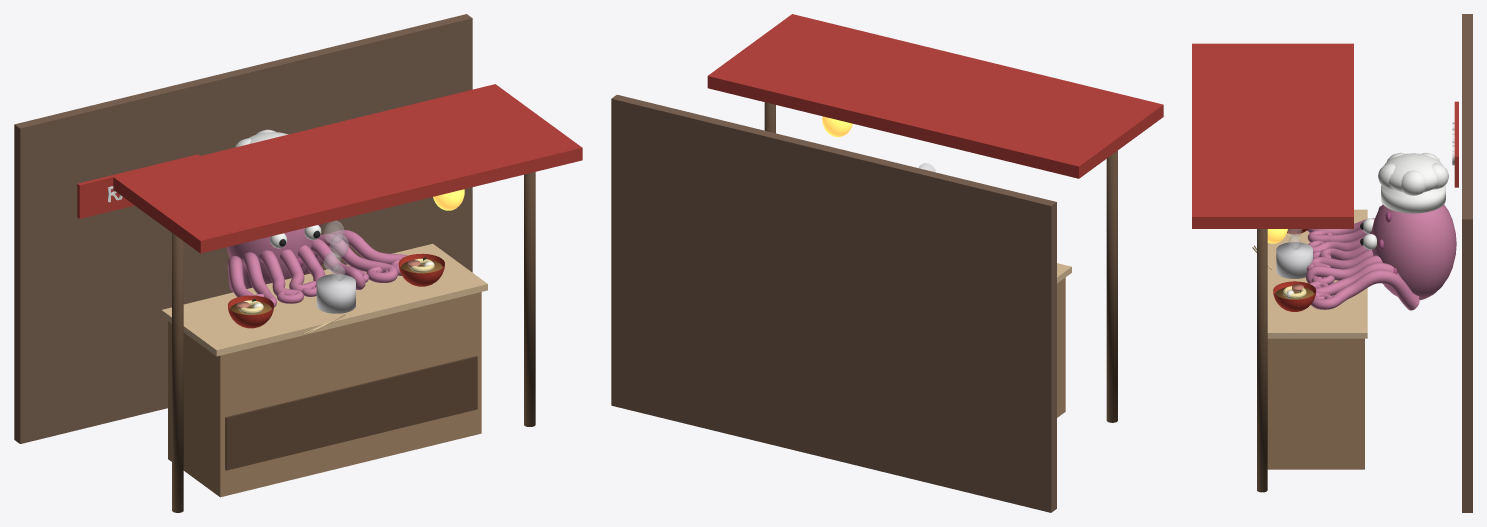
Rendered from octopus_ramen_booth.glb.
3 renders of one model, left to right at view 1: azimuth 30°, elevation 25°; view 2: azimuth 150°, elevation 25°; view 3: azimuth 270°, elevation 25°, orthographic. The views are drawn at different scales.
Visible parts, largest first — view 1: BackWall, Canopy, Counter, CounterFrontPanel, CounterTop, Post, Post.001, SignBoard, Mantle, Pot, Tentacle.006, Tentacle.007 (+7 smaller); view 2: BackWall, Canopy, Post, Counter; view 3: Canopy, Counter, Mantle, BackWall, CounterTop, Post.001, Tentacle.007, HatBand, HatPuff, Pot, Tentacle.005, Tentacle.006 (+7 smaller).
Boxes of the visible parts, x1,y1,x2,y2 form: BackWall: (14,14,472,443); Canopy: (113,84,582,253); Counter: (168,292,481,497); CounterFrontPanel: (225,356,477,470); CounterTop: (161,243,487,356); Post: (172,233,183,512); Post.001: (524,172,535,426); SignBoard: (77,154,199,218); Mantle: (226,228,319,284); Pot: (316,274,355,313); Tentacle.006: (304,233,398,282); Tentacle.007: (306,230,407,275); BackWall: (611,94,1056,512); Canopy: (707,14,1163,178); Post: (1106,150,1117,422); Counter: (1057,277,1065,417); Canopy: (1192,43,1353,228); Counter: (1267,338,1364,469); Mantle: (1371,204,1456,300); BackWall: (1462,14,1472,512); CounterTop: (1267,209,1367,338); Post.001: (1257,229,1267,492); Tentacle.007: (1311,270,1419,310); HatBand: (1381,185,1445,213); HatPuff: (1384,153,1442,192); Pot: (1276,242,1312,278); Tentacle.005: (1306,255,1382,284); Tentacle.006: (1309,262,1419,298).
Size of what is drawn, in the model's own units: 4.5 by 3 by 2.6.
